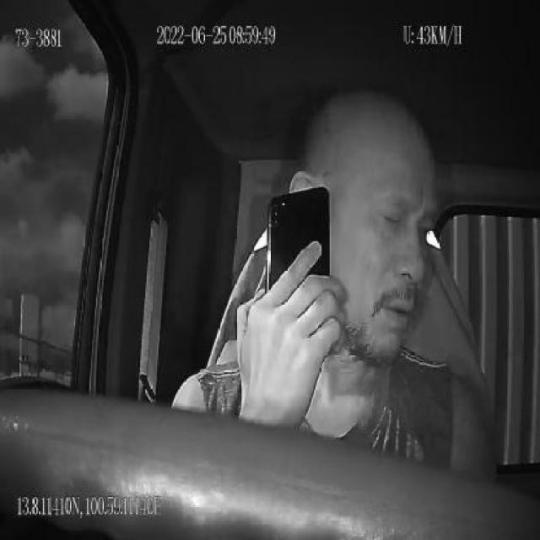phone: (266, 187, 331, 317)
